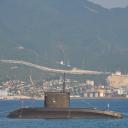submarine: (6, 94, 124, 120)
